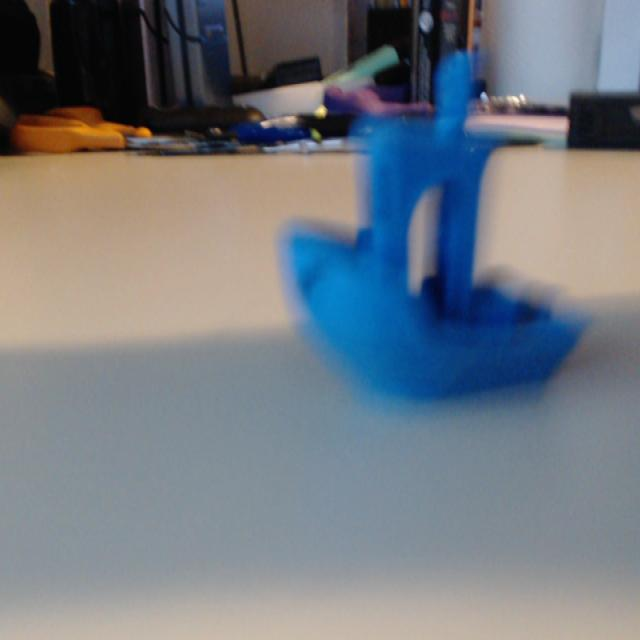benchy: (276, 47, 589, 408)
